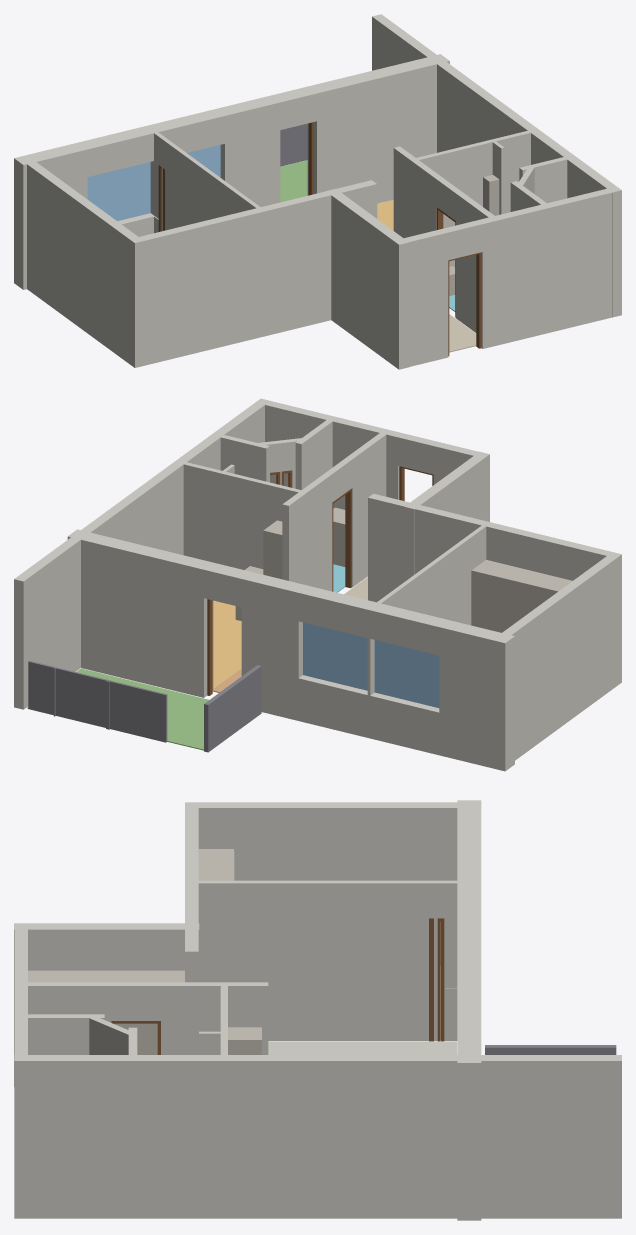
The picture shows the model from 3 angles, top to bottom: view 1: azimuth 30°, elevation 25°; view 2: azimuth 150°, elevation 25°; view 3: azimuth 270°, elevation 25°; orthographic projection. The views are drawn at different scales.
Visible parts, largest first — view 1: walls, window_3, railings, floor_7_Outdoor, door_0, floor_4_Entry, furniture_2_closet, window_2; view 2: walls, railings, furniture_1_closet, window_3, window_2, floor_7_Outdoor, floor_3_Kitchen, furniture_0_closet, door_4, furniture_7_appliance, door_1; view 3: walls, furniture_3_closet, floor_1_Undefined, railings, furniture_1_closet, door_8, furniture_0_closet, door_7.
Boxes of the visible parts, x1=… form: walls: x1=14, y1=14, x2=621, y2=369; window_3: x1=87, y1=162, x2=150, y2=221; railings: x1=280, y1=123, x2=307, y2=166; floor_7_Outdoor: x1=280, y1=160, x2=307, y2=202; door_0: x1=448, y1=252, x2=481, y2=356; floor_4_Entry: x1=449, y1=314, x2=476, y2=352; furniture_2_closet: x1=483, y1=175, x2=499, y2=215; window_2: x1=187, y1=145, x2=220, y2=177; walls: x1=14, y1=398, x2=621, y2=771; railings: x1=28, y1=660, x2=261, y2=752; furniture_1_closet: x1=471, y1=559, x2=572, y2=632; window_3: x1=374, y1=640, x2=439, y2=707; window_2: x1=303, y1=622, x2=367, y2=690; floor_7_Outdoor: x1=27, y1=668, x2=208, y2=750; floor_3_Kitchen: x1=213, y1=600, x2=241, y2=689; furniture_0_closet: x1=263, y1=520, x2=282, y2=579; door_4: x1=332, y1=488, x2=351, y2=591; furniture_7_appliance: x1=333, y1=507, x2=345, y2=566; door_1: x1=207, y1=599, x2=212, y2=695; walls: x1=14, y1=800, x2=621, y2=1220; furniture_3_closet: x1=28, y1=970, x2=184, y2=1054; floor_1_Undefined: x1=268, y1=1041, x2=456, y2=1054; railings: x1=485, y1=1045, x2=616, y2=1054; furniture_1_closet: x1=198, y1=849, x2=234, y2=880; door_8: x1=437, y1=918, x2=444, y2=1041; furniture_0_closet: x1=228, y1=1027, x2=261, y2=1054; door_7: x1=429, y1=918, x2=433, y2=1041.
Bounding box in the file's own units: 9.65 × 2.72 × 9.43.
